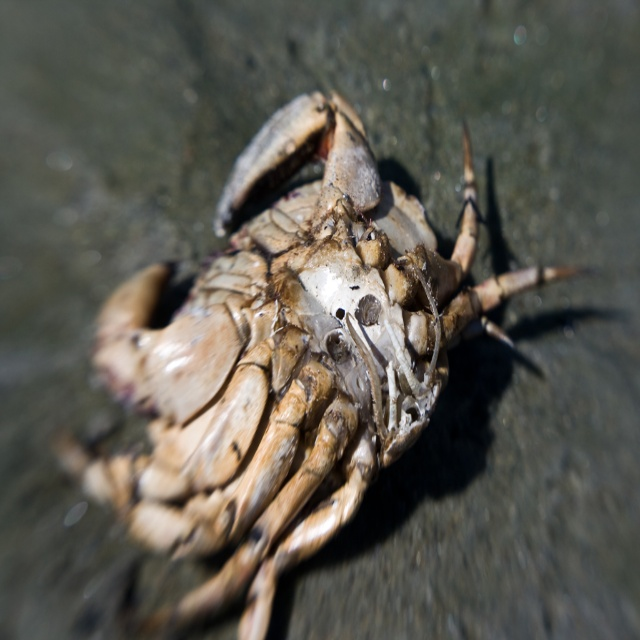Crab: (50, 88, 590, 639)
